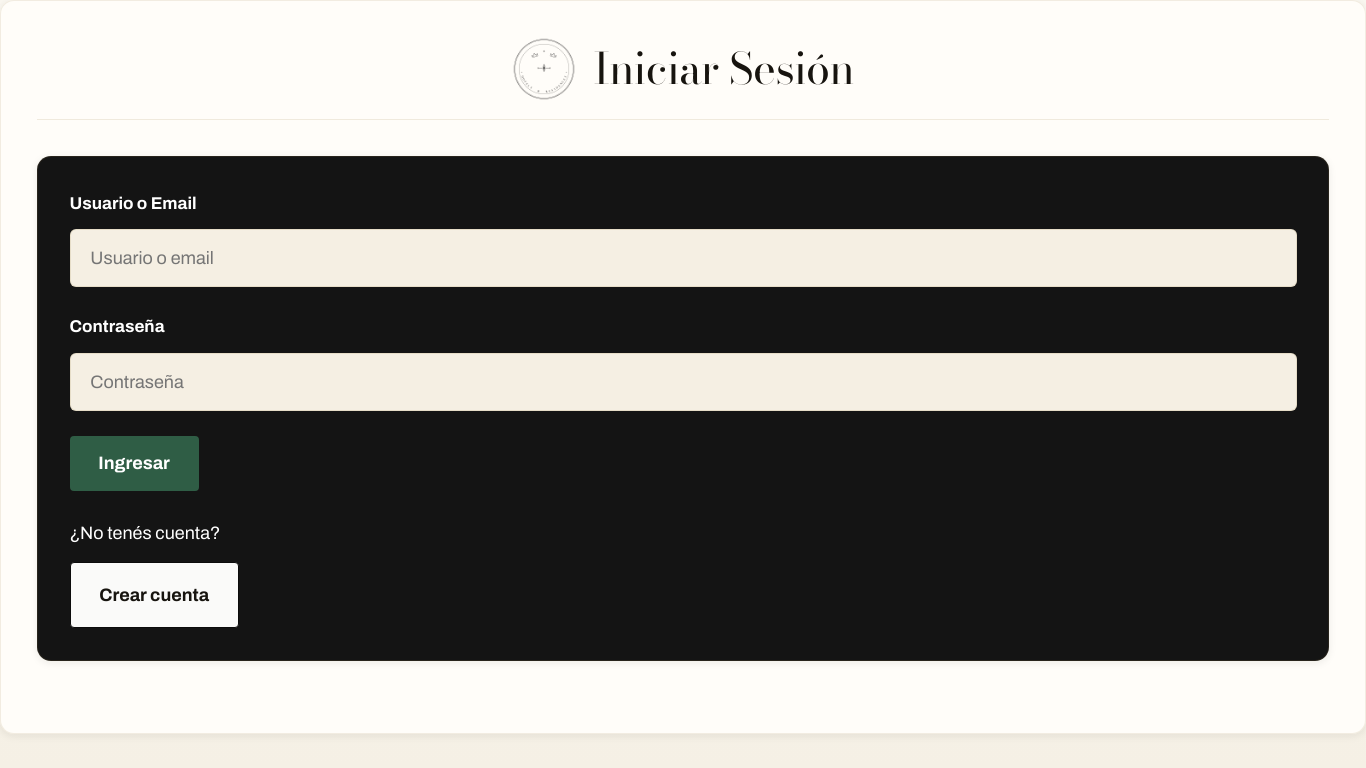
Test case: Login › shows an error and does not try to log in when the form is incomplete
Step 1. Click the button "Ingresar" → x=134, y=463, box left=70, top=436, right=199, bottom=490
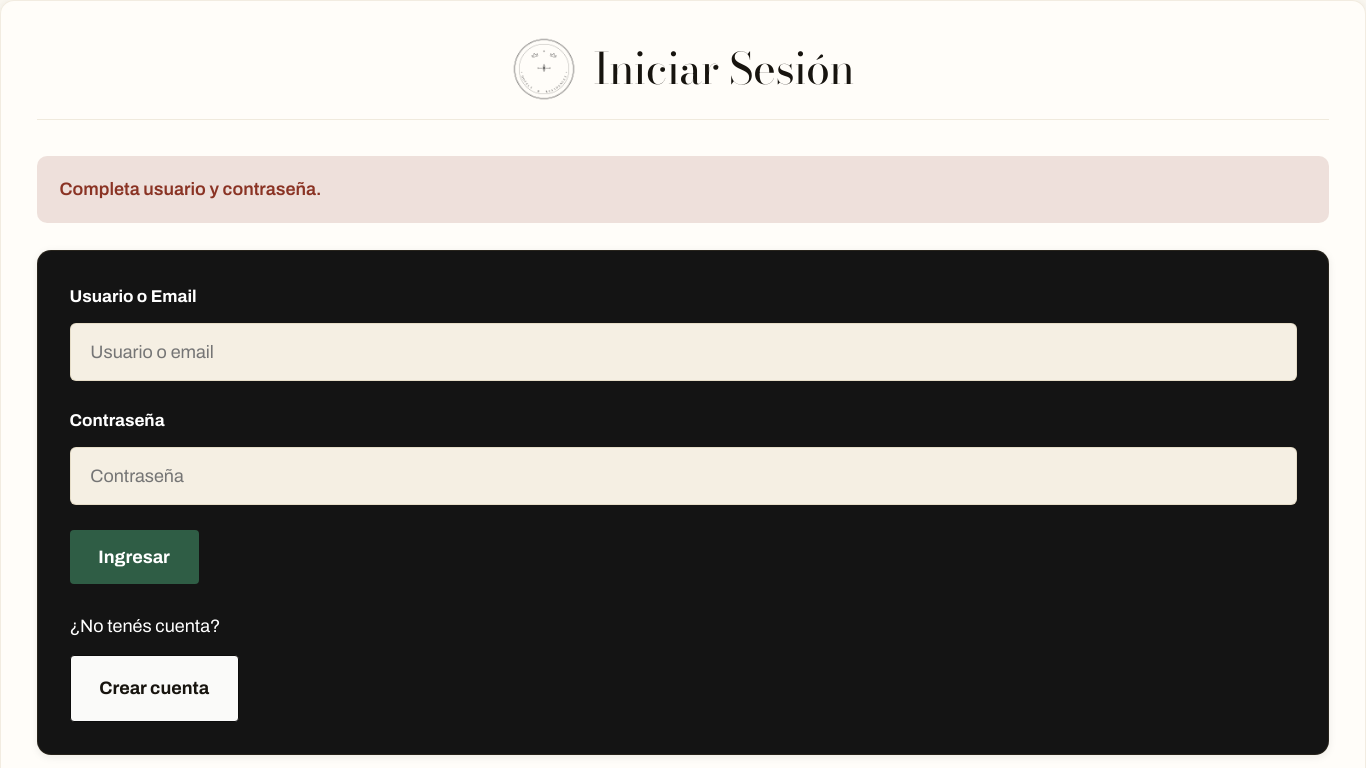
Expected: the text "Completa usuario y contraseña." is shown, left=37, top=156, right=1329, bottom=223
